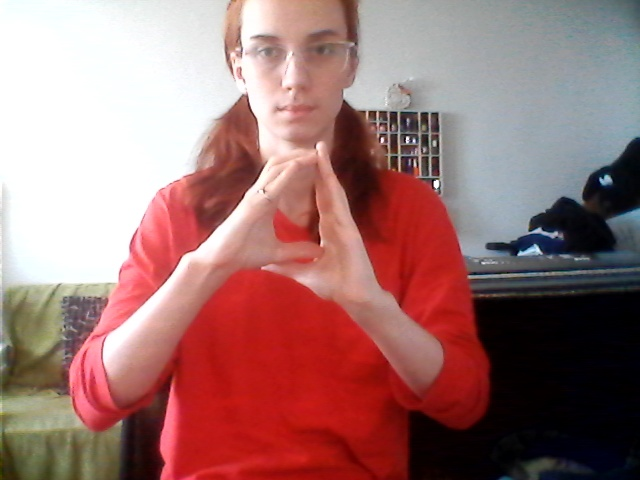d: (222, 138, 374, 308)
